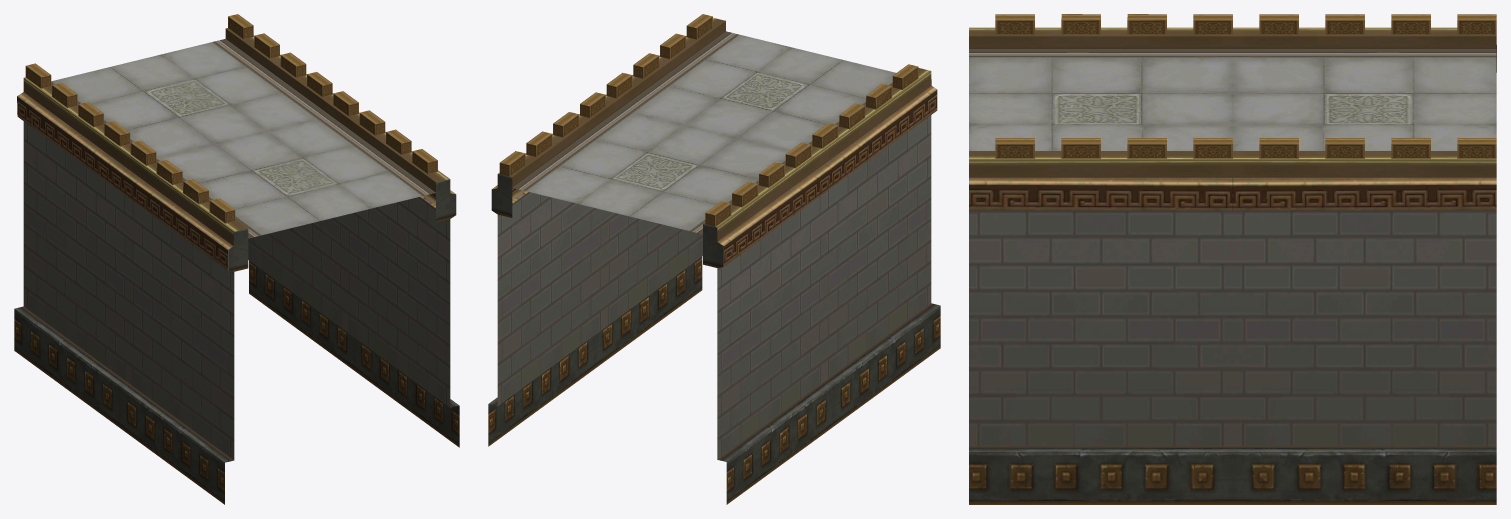
File: Yland1_jz_03 Yland1.FBX
3 views of the same model, side by side, from view 1: azimuth 30°, elevation 25°; view 2: azimuth 150°, elevation 25°; view 3: azimuth 270°, elevation 25° (orthographic). The views are drawn at different scales.
Parts seen in each view (by area): view 1: Yland1_jz_03 Yland1; view 2: Yland1_jz_03 Yland1; view 3: Yland1_jz_03 Yland1.
Part boxes in pixels (x1,y1,x2,y2): Yland1_jz_03 Yland1: (14,14,459,504); Yland1_jz_03 Yland1: (488,14,940,504); Yland1_jz_03 Yland1: (969,14,1496,504).
Size of the model in its own units: 7.66 by 8.81 by 11.91.
